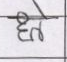e_matra: (32, 1, 47, 16)
